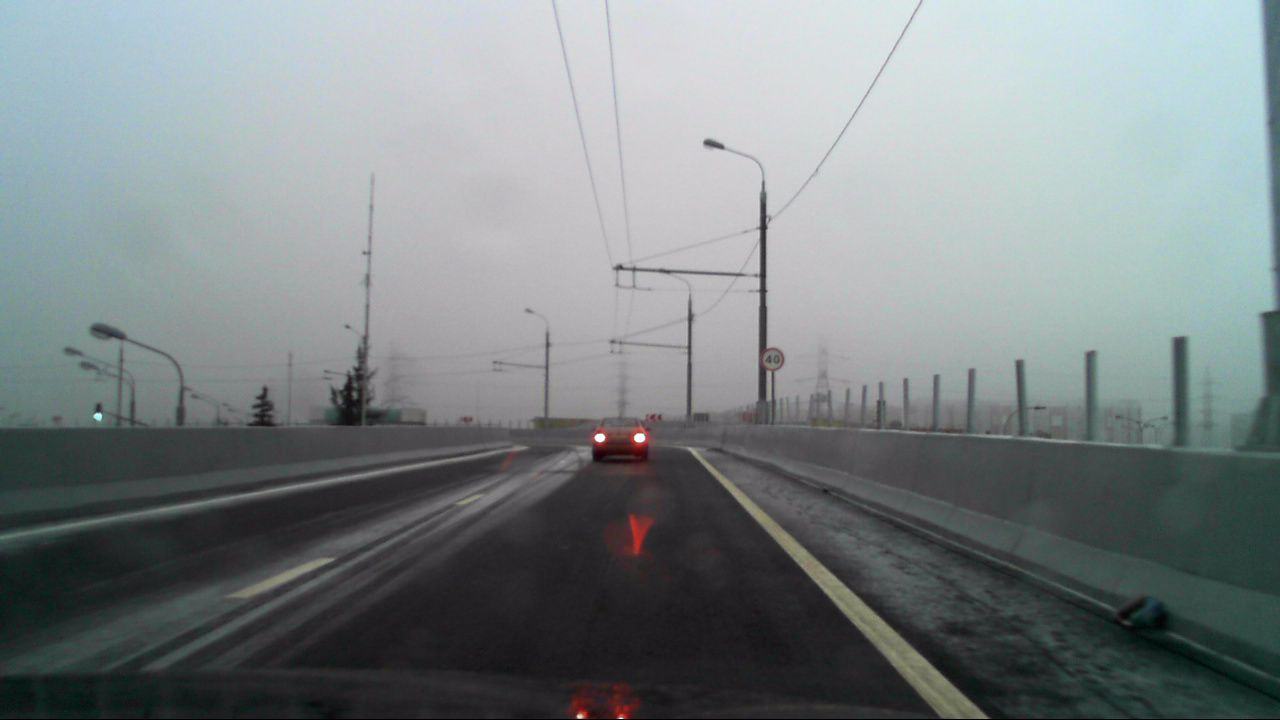speed_warning_40: (761, 347, 783, 370)
